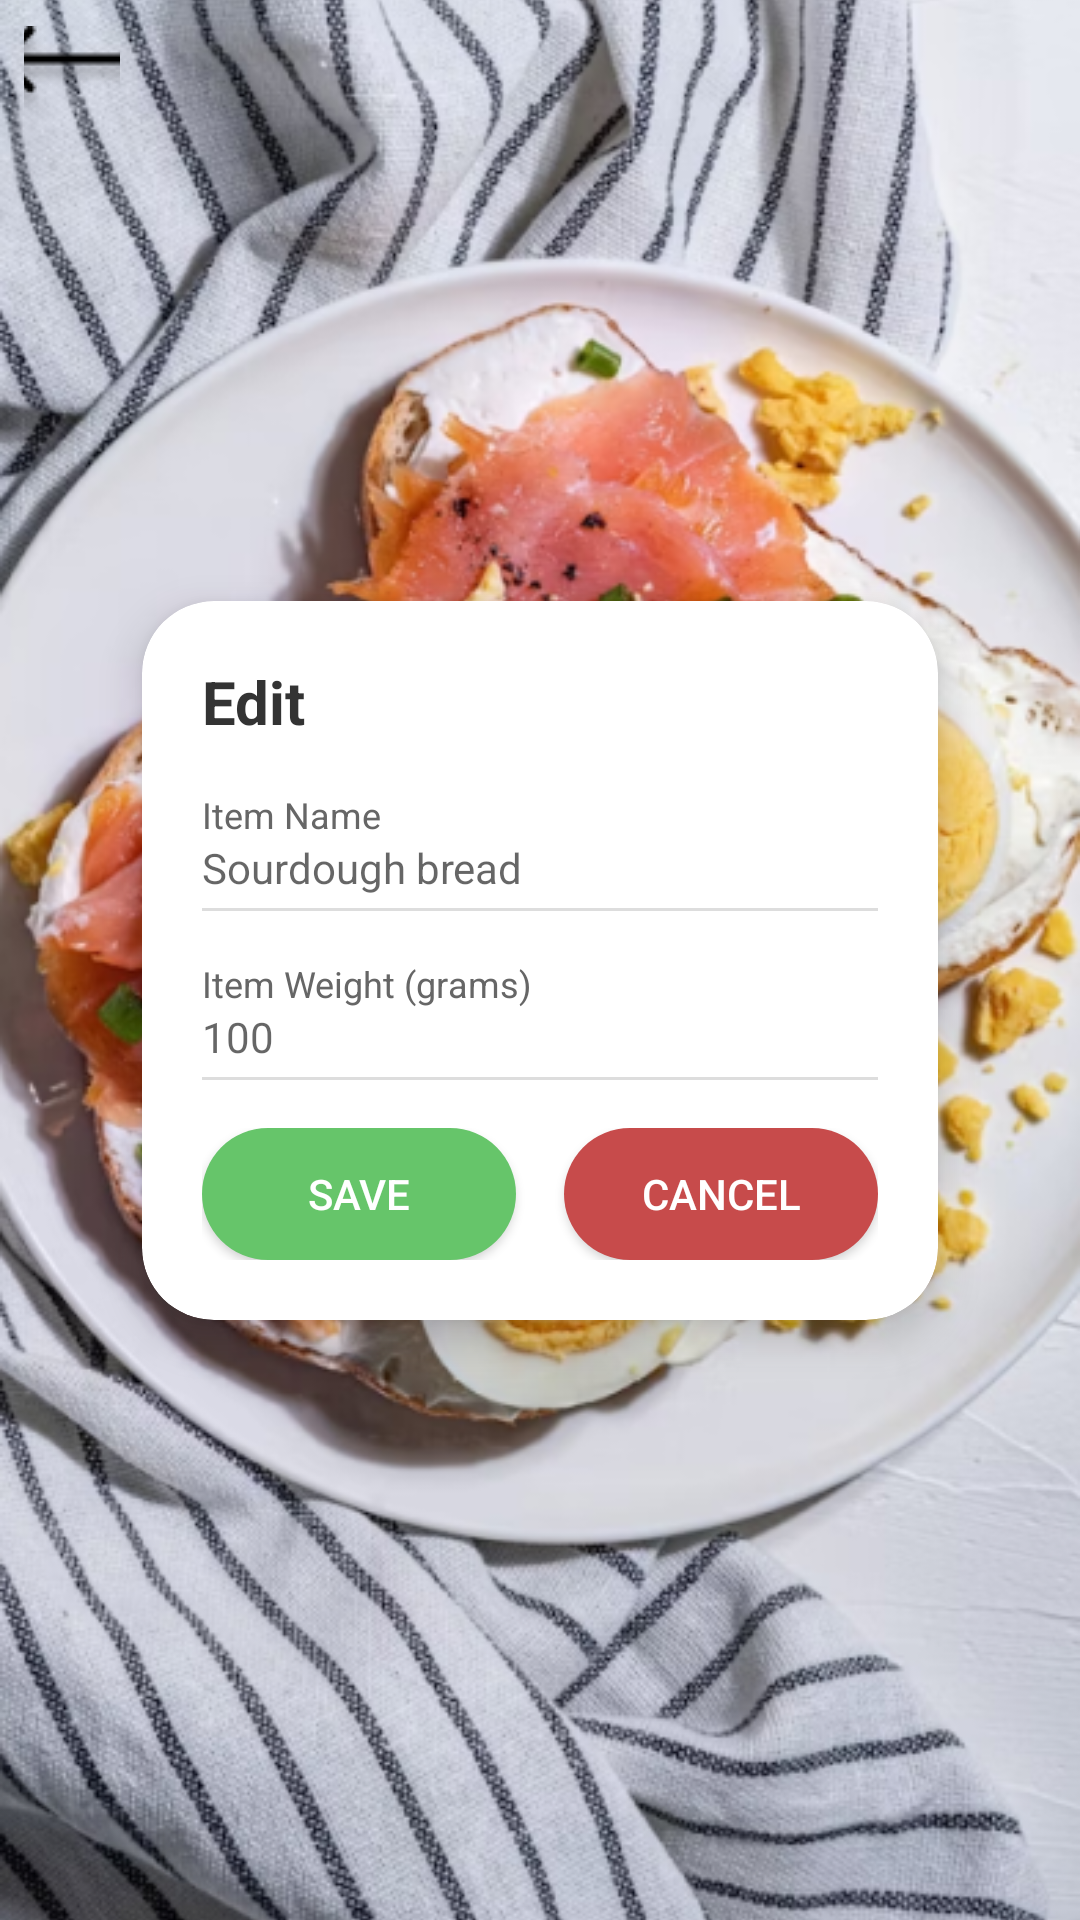

Icons on this 1080px x 1920px Android screen, each with its box as (left=x1, top=y1, right=x2, bottom=y2):
arrow: (left=24, top=24, right=120, bottom=120)
